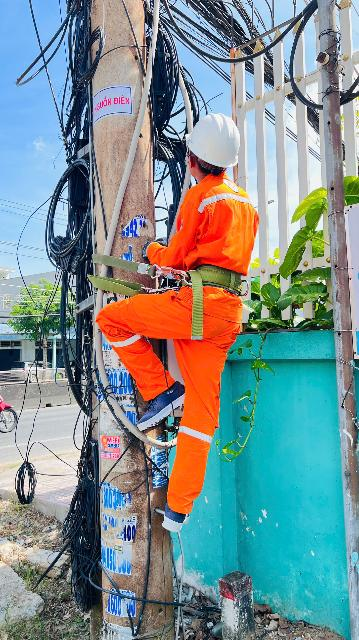harness: (154, 252, 259, 305)
helmet: (177, 94, 257, 173)
shoes: (128, 375, 191, 427), (136, 484, 202, 532)
